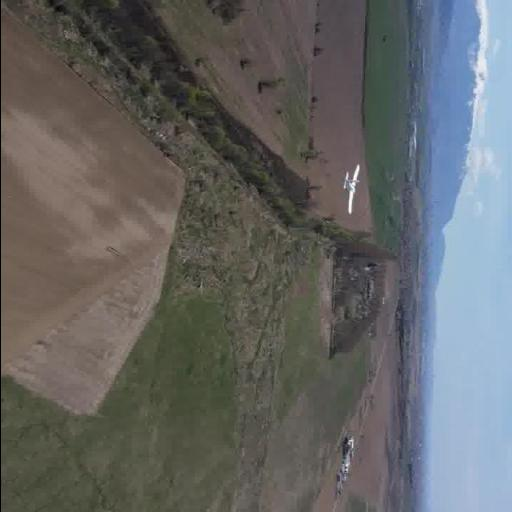uav: (333, 162, 363, 216)
